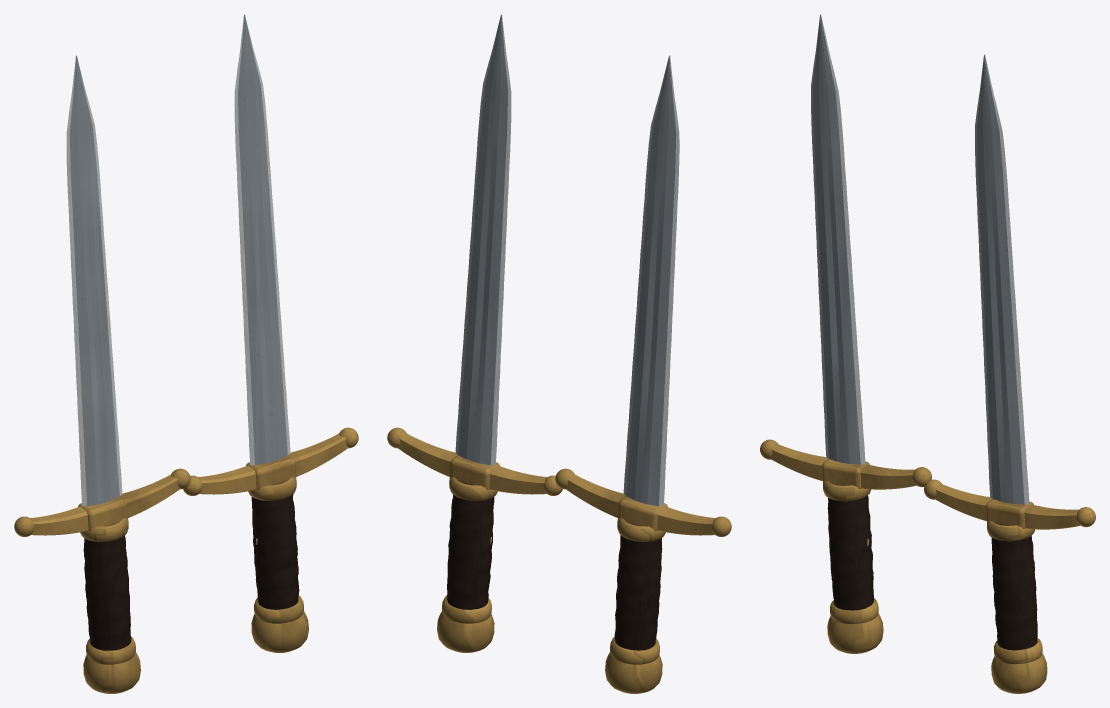
File: twin-shortblade.lod1.glb
The picture shows the model from 3 angles, left to right: view 1: azimuth 30°, elevation 25°; view 2: azimuth 150°, elevation 25°; view 3: azimuth 330°, elevation 25°; orthographic projection. The views are drawn at different scales.
Parts seen in each view (by area): view 1: steel / forged blade steel, brass / polished brass furniture, leather / oiled leather wrap, edge / honed bright bevel; view 2: steel / forged blade steel, brass / polished brass furniture, leather / oiled leather wrap, edge / honed bright bevel; view 3: steel / forged blade steel, brass / polished brass furniture, leather / oiled leather wrap, edge / honed bright bevel.
Boxes of the visible parts, box(x1,y1,x2,y2) form: steel / forged blade steel: box(69, 14, 287, 506); brass / polished brass furniture: box(14, 427, 358, 693); leather / oiled leather wrap: box(83, 494, 299, 650); edge / honed bright bevel: box(66, 14, 290, 506); steel / forged blade steel: box(458, 14, 676, 506); brass / polished brass furniture: box(387, 427, 731, 693); leather / oiled leather wrap: box(447, 494, 662, 650); edge / honed bright bevel: box(455, 14, 679, 506); steel / forged blade steel: box(813, 14, 1024, 504); brass / polished brass furniture: box(760, 439, 1095, 693); leather / oiled leather wrap: box(827, 495, 1037, 650); edge / honed bright bevel: box(811, 14, 1029, 504).
Size of the model in its own units: 0.2846 by 0.51 by 0.0416.
Materials: 6 (4 with a texture image).
